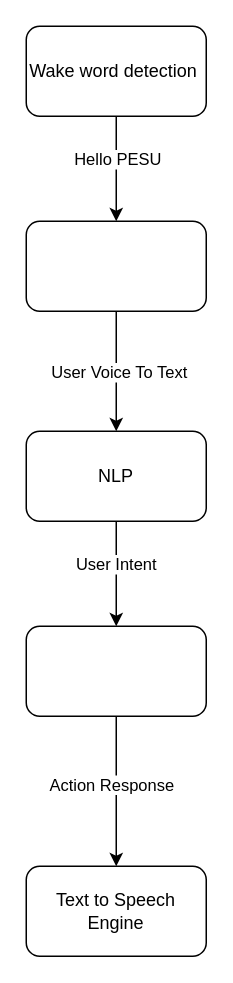
This 233x983 diagram has some shape labels left out. Here are the shapes that lost their labels. From the top down, the centre of each, then its label:
At pixel 115 265: "Speech recognition".
At pixel 115 670: "Intent Classification".
